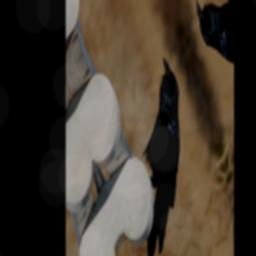Crow: (110, 49, 208, 256)
